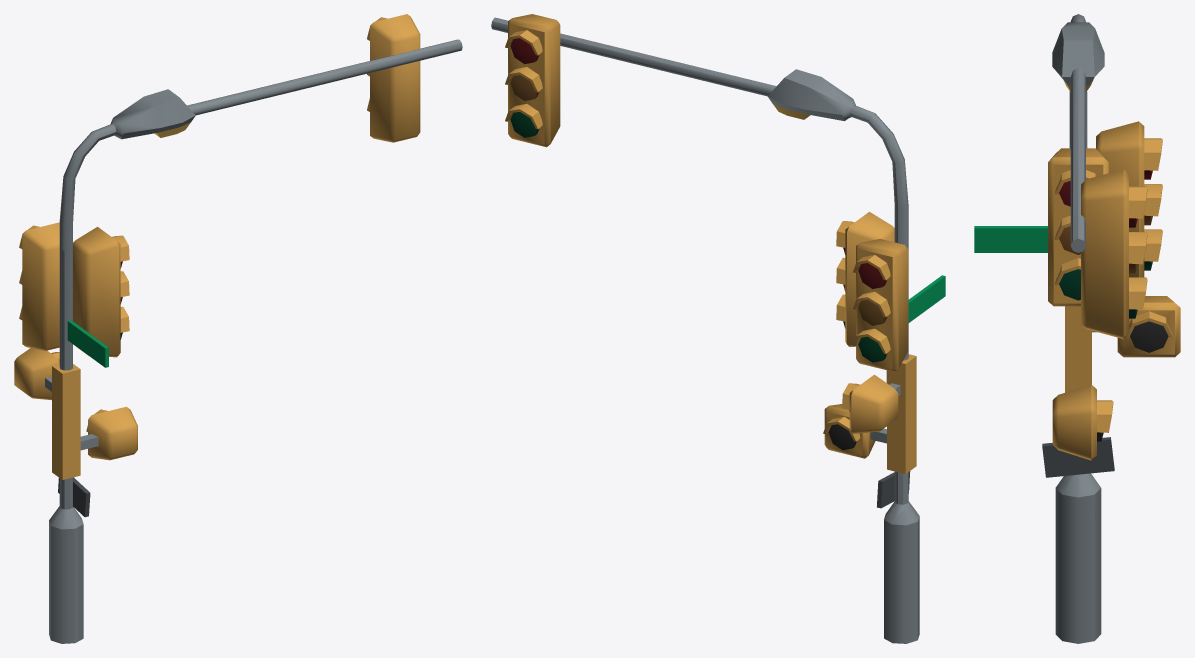
The model's file is SOLARA_TrafficLights.glb.
The picture shows the model from 3 angles, left to right: view 1: azimuth 30°, elevation 25°; view 2: azimuth 150°, elevation 25°; view 3: azimuth 270°, elevation 25°; orthographic projection. The views are drawn at different scales.
Visible parts, largest first — view 1: TL_C_Housing_d69f4a, TL_B_Housing_d69f4a, TL_B_Pole_7c868b, TL_A_Housing_d69f4a, TL_C_Pole_7f898f, TL_A_Pole_818c91, TL_C_Detail_009757; view 2: TL_C_Housing_d69f4a, TL_B_Pole_7c868b, TL_B_Housing_d69f4a, TL_C_Pole_7f898f, TL_A_Housing_d69f4a, TL_C_Detail_009757; view 3: TL_C_Housing_d69f4a, TL_B_Pole_7c868b, TL_A_Housing_d69f4a, TL_B_Housing_d69f4a, TL_C_Pole_7f898f, TL_C_Detail_009757, TL_C_Detail_464c50, TL_C_Detail_2a2a2a, TL_A_Detail_003b28.
Boxes of the visible parts, box(x1,y1,x2,y2) form: TL_C_Housing_d69f4a: box(14, 14, 420, 426); TL_B_Housing_d69f4a: box(19, 225, 137, 479); TL_B_Pole_7c868b: box(49, 89, 195, 643); TL_A_Housing_d69f4a: box(22, 222, 137, 456); TL_C_Pole_7f898f: box(45, 39, 462, 642); TL_A_Pole_818c91: box(58, 250, 98, 643); TL_C_Detail_009757: box(67, 320, 108, 367); TL_C_Housing_d69f4a: box(505, 14, 916, 433); TL_B_Pole_7c868b: box(767, 69, 919, 643); TL_B_Housing_d69f4a: box(823, 219, 916, 473); TL_C_Pole_7f898f: box(491, 17, 908, 642); TL_A_Housing_d69f4a: box(823, 211, 907, 473); TL_C_Detail_009757: box(908, 275, 945, 322); TL_C_Housing_d69f4a: box(1065, 169, 1180, 363); TL_B_Pole_7c868b: box(1052, 16, 1104, 643); TL_A_Housing_d69f4a: box(1048, 121, 1162, 457); TL_B_Housing_d69f4a: box(1048, 125, 1162, 460); TL_C_Pole_7f898f: box(1055, 14, 1101, 635); TL_C_Detail_009757: box(974, 226, 1047, 252); TL_C_Detail_464c50: box(1042, 437, 1114, 477); TL_C_Detail_2a2a2a: box(1130, 321, 1168, 352); TL_A_Detail_003b28: box(1059, 269, 1080, 300).
Size of the model in its own units: 0.8039 by 0.9695 by 0.2716.
